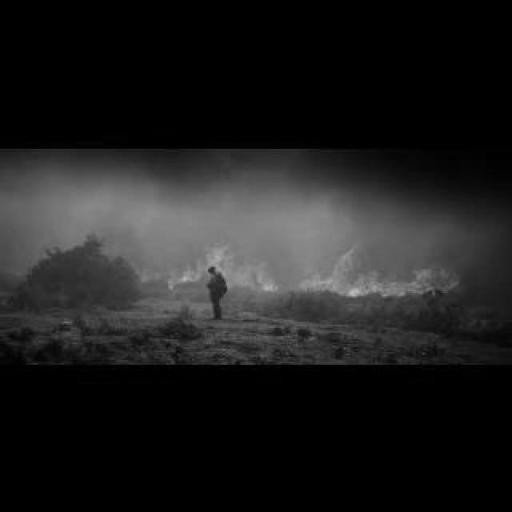smoke: (288, 240, 464, 302), (138, 235, 282, 296)
